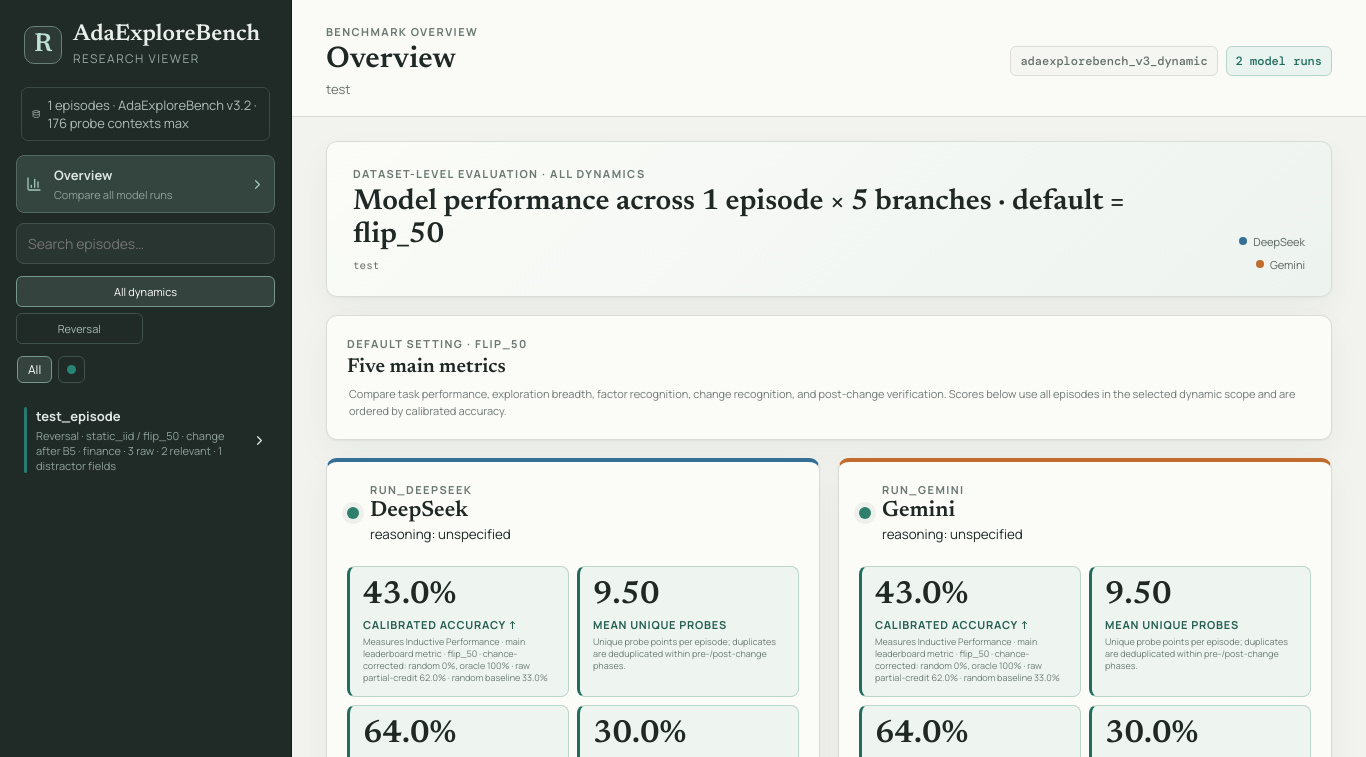
Test: performance shows branch metrics and one decision landscape
Click the button "test_episode": (146, 440) [16, 397, 275, 483]
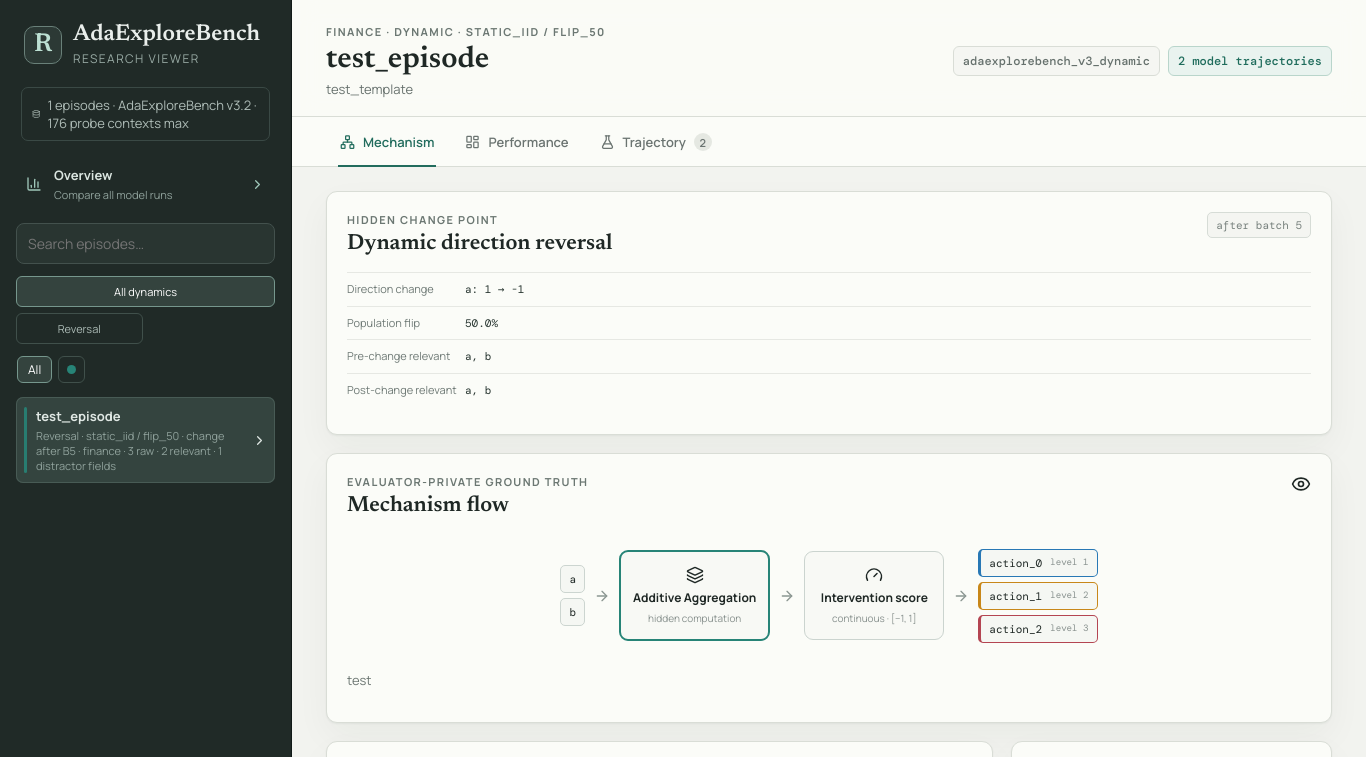
Click the button "Performance": (517, 142) [452, 117, 583, 166]
(page scrolled)
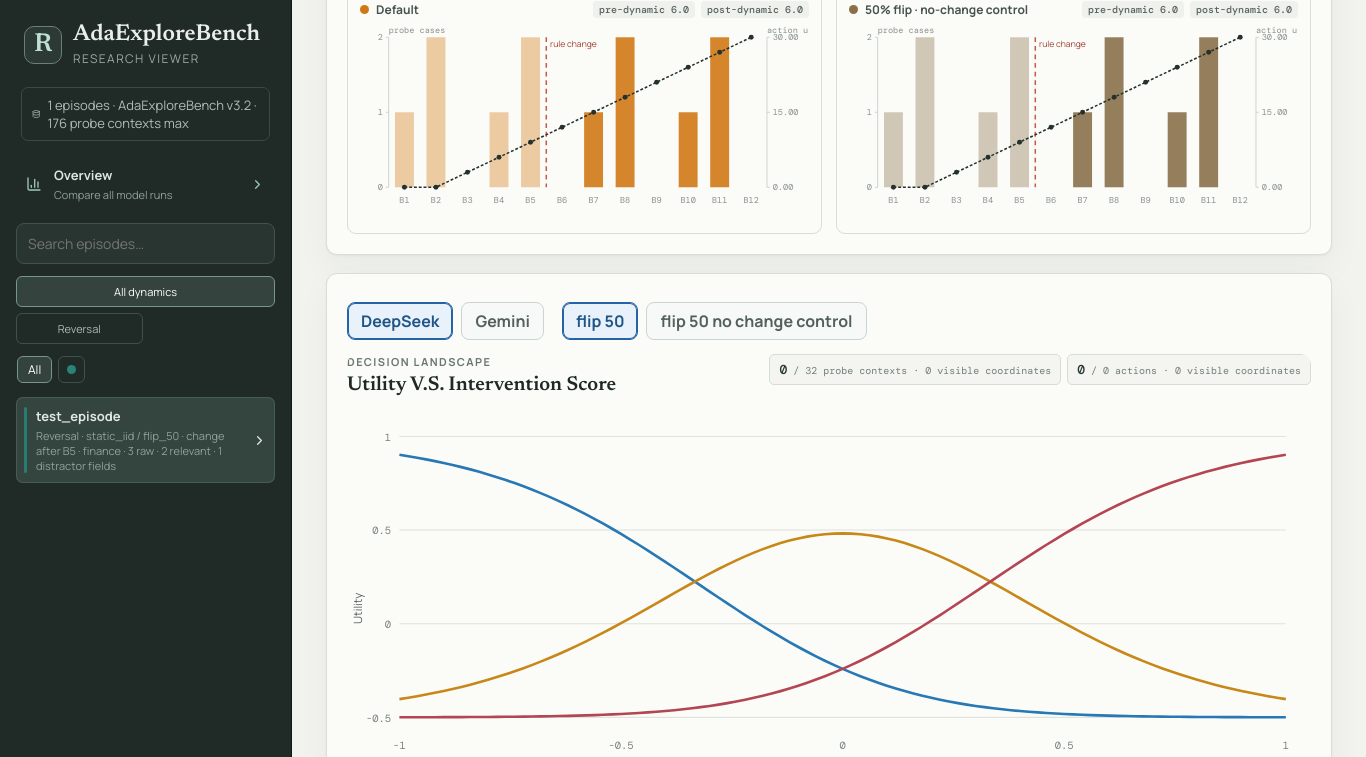
Now the picture named "Default probe allocation by action batch" is shown, box [360, 22, 809, 218]
Now the picture named "50% flip · no-change control probe allocation by action batch" is shown, box [849, 22, 1298, 218]
Now the heading "Utility V.S. Intervention Score" is shown, box [347, 373, 616, 397]
